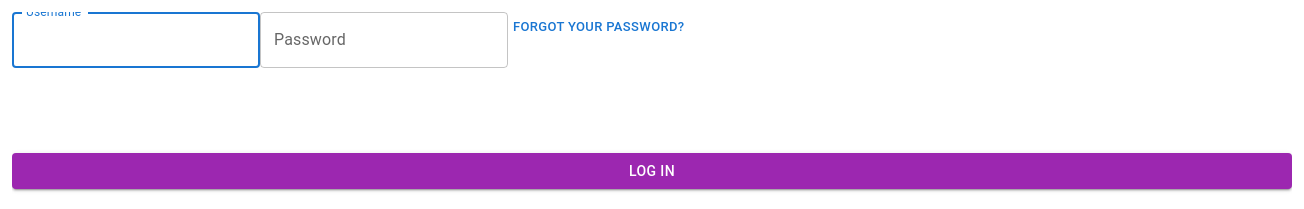
Test: Login Component › should validate form and prevent submission
The width and height of the screenshot is (1304, 209).
In the field labelled "Username": (136, 40) [12, 12, 260, 68], type "test@@@@.com"
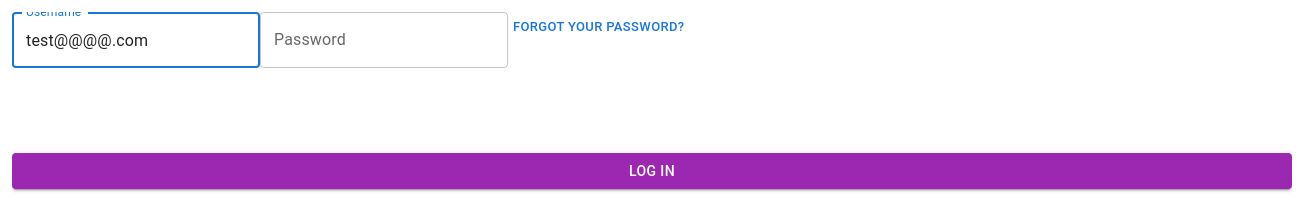
Click the button "Log in": click(652, 171) [12, 153, 1292, 189]
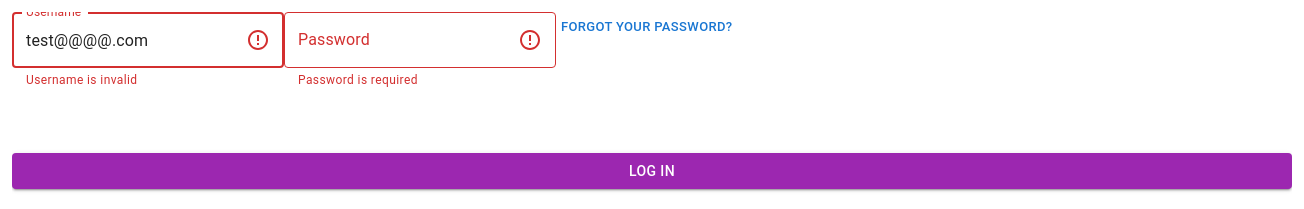
Expected: the text "Username is invalid" is shown, [26, 73, 138, 87]
